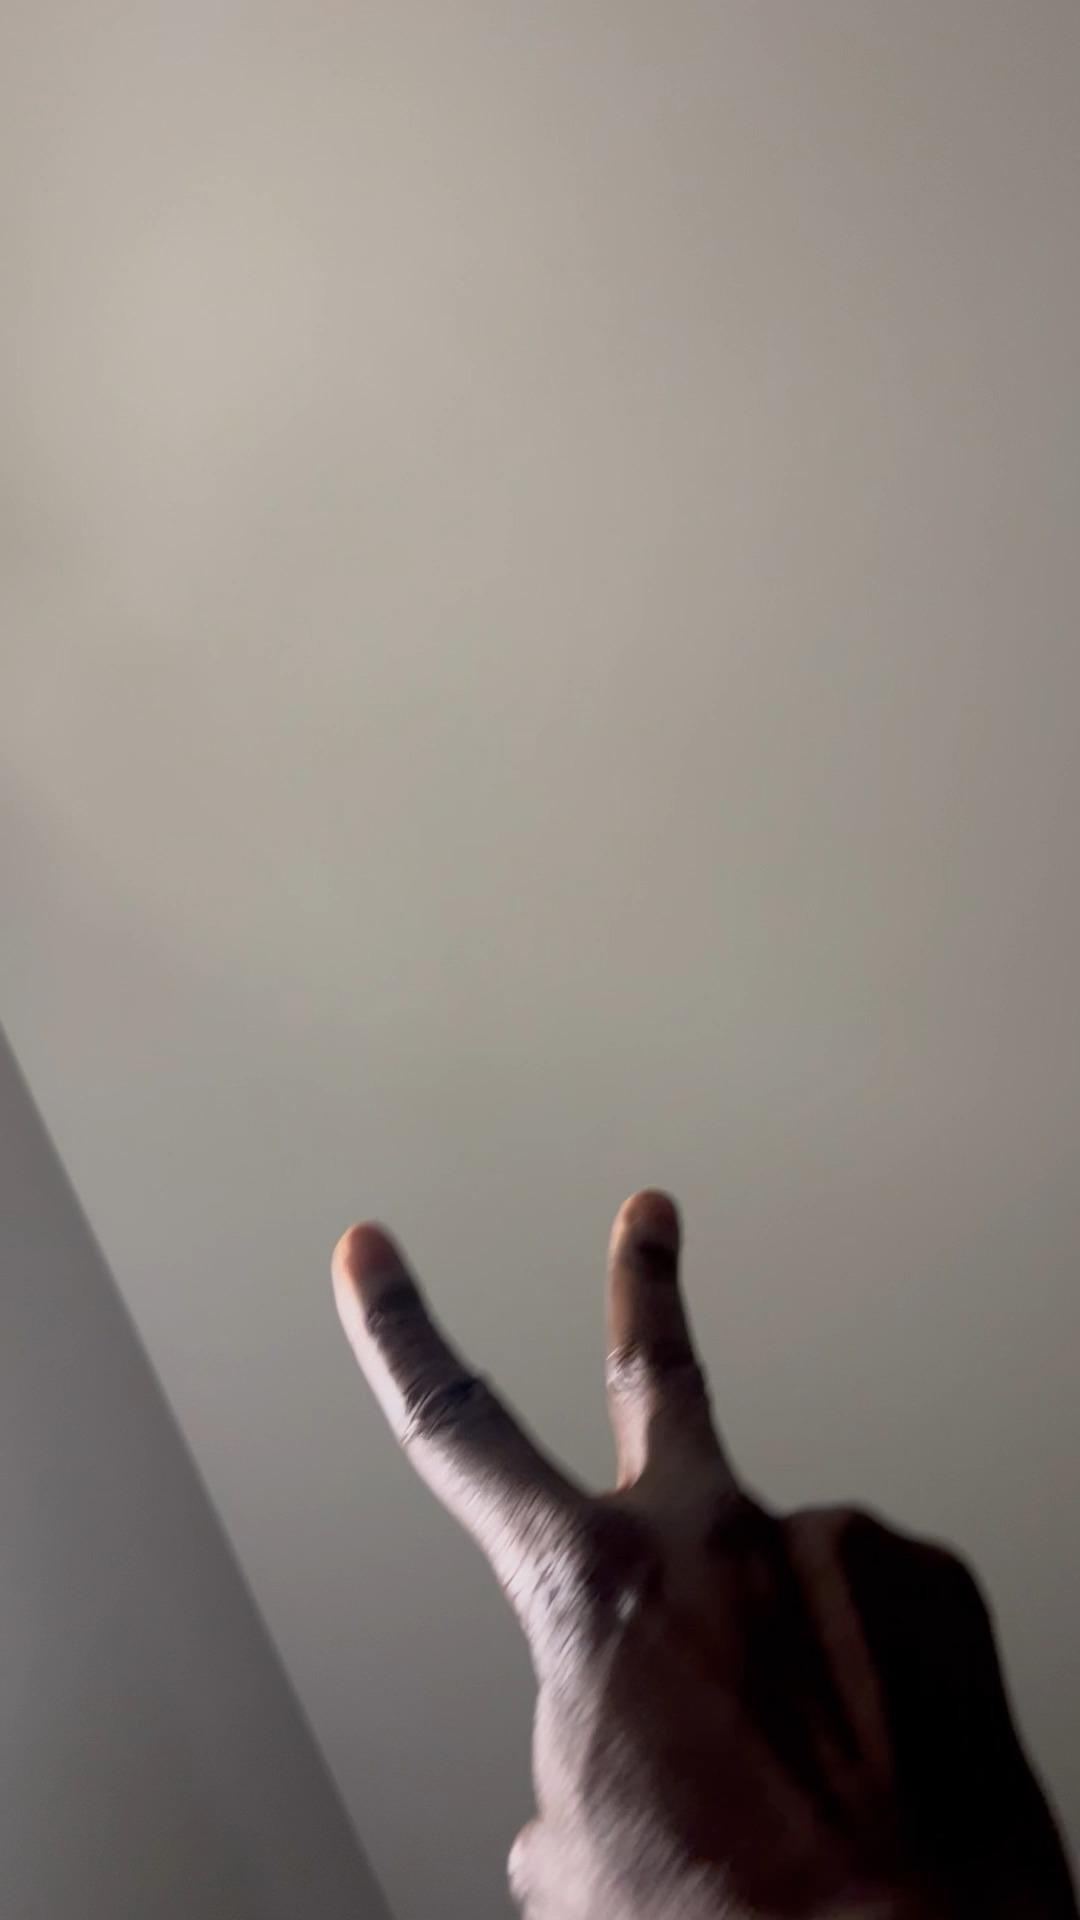Scissors: (327, 1189, 1080, 1920)
